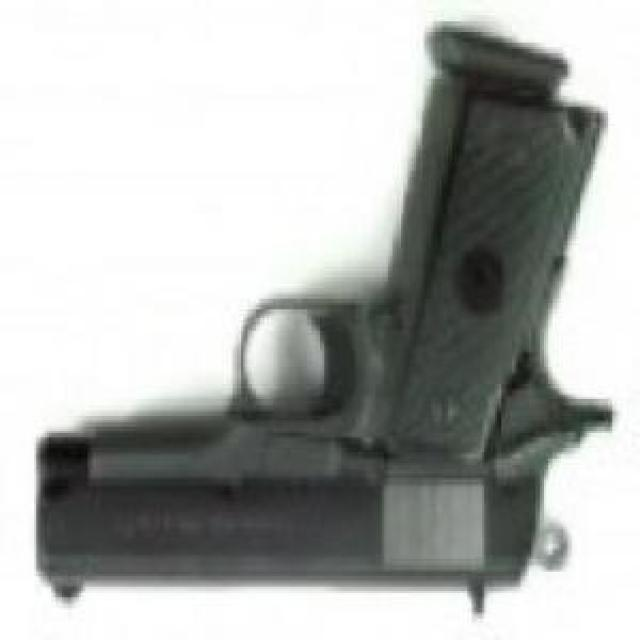pistol: (32, 22, 620, 614)
